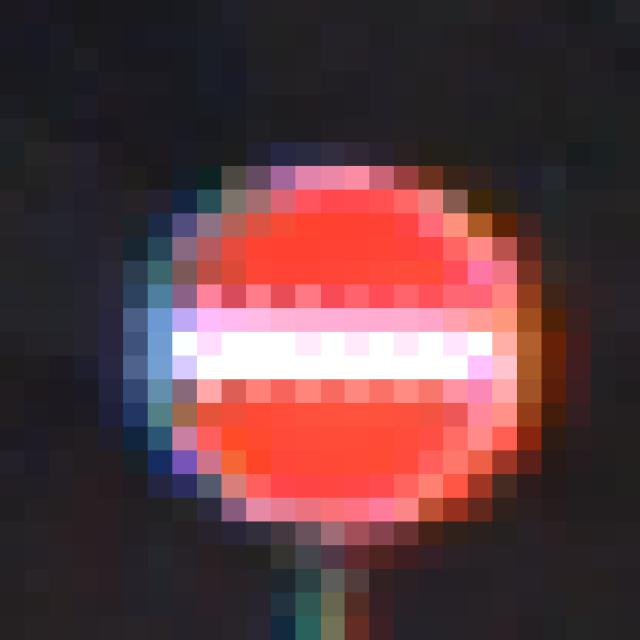No Entry: (124, 120, 518, 523)
